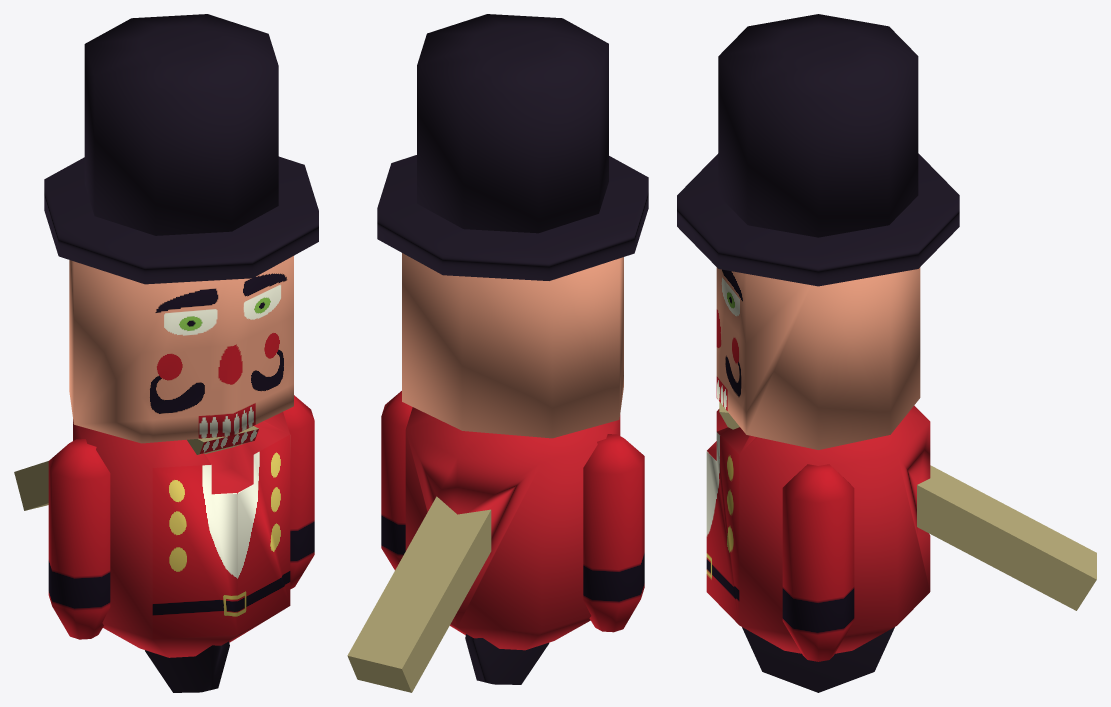
The model's file is nutcracker.glb.
3 renders of one model, left to right at view 1: azimuth 30°, elevation 25°; view 2: azimuth 150°, elevation 25°; view 3: azimuth 270°, elevation 25°, orthographic.
Parts seen in each view (by area): view 1: Hat, Body, Hat.001, HatBrim, LeftArm, RightArm, Wheel, Lever; view 2: Hat, Hat.001, Body, HatBrim, Lever, LeftArm, RightArm, Wheel; view 3: Hat, Hat.001, Body, HatBrim, RightArm, Lever, Wheel.
Boxes of the visible parts, x1,y1,x2,y2 form: Hat: [84, 14, 278, 235]; Body: [73, 412, 290, 657]; Hat.001: [69, 256, 293, 443]; HatBrim: [44, 156, 318, 284]; LeftArm: [48, 439, 110, 639]; RightArm: [283, 395, 314, 589]; Wheel: [145, 641, 229, 692]; Lever: [14, 426, 258, 510]; Hat: [417, 14, 608, 233]; Hat.001: [402, 253, 623, 438]; Body: [405, 407, 620, 650]; HatBrim: [377, 155, 648, 280]; Lever: [347, 496, 491, 692]; LeftArm: [583, 434, 644, 632]; RightArm: [381, 391, 412, 569]; Wheel: [465, 634, 549, 684]; Hat: [718, 14, 918, 237]; Hat.001: [716, 267, 920, 449]; Body: [706, 405, 930, 653]; HatBrim: [677, 153, 959, 286]; RightArm: [782, 464, 854, 661]; Lever: [719, 402, 1096, 610]; Wheel: [742, 627, 894, 692].
Size of the model in its own units: 3.24 by 7.75 by 4.58.
Materials: 5 (2 with a texture image).
